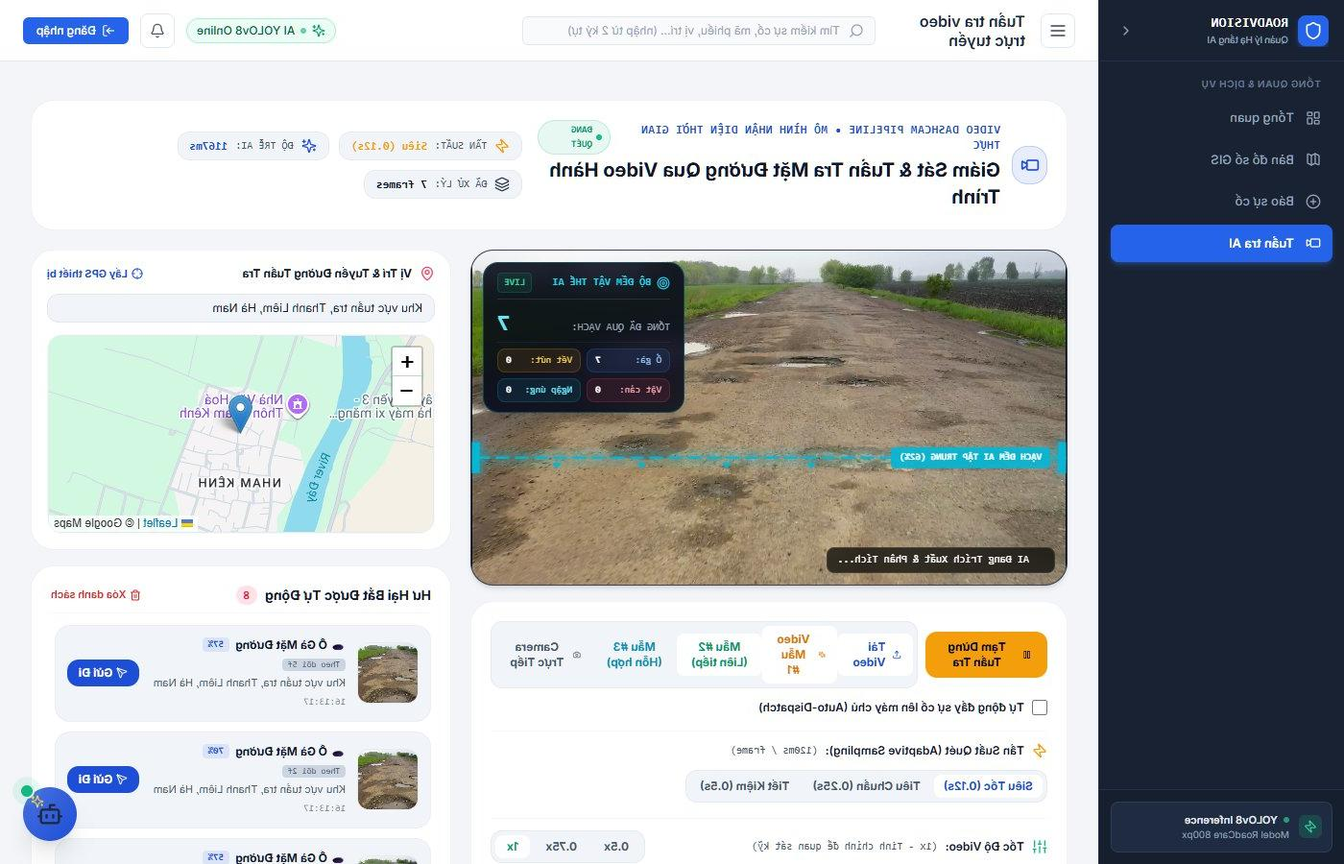POTHOLE: (396, 467, 813, 674)
